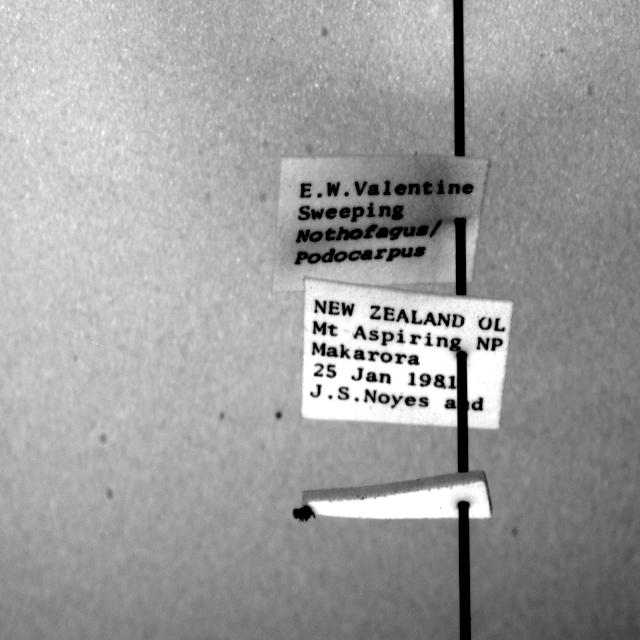typed_label: (301, 279, 512, 429), (274, 156, 489, 291)
